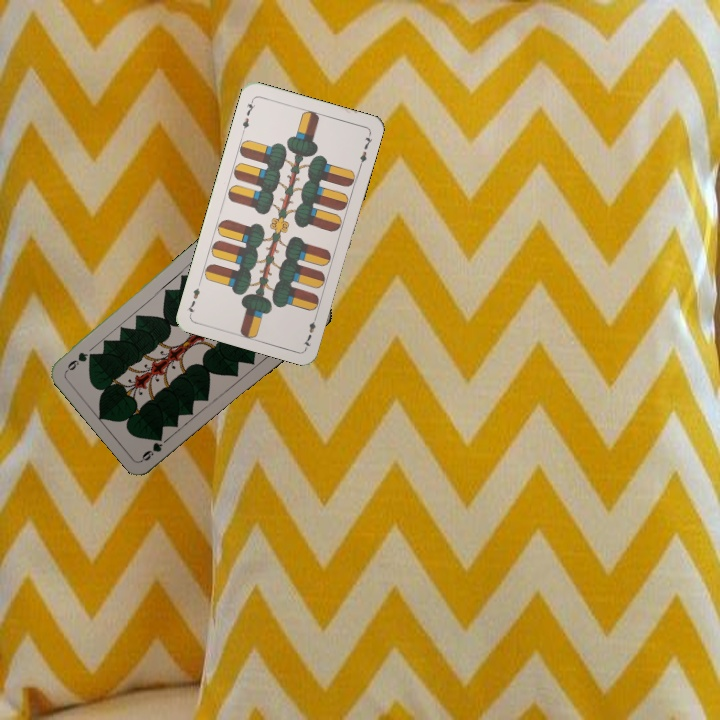E7: (299, 310, 320, 350), (238, 96, 258, 135)
G9: (138, 433, 166, 463)
